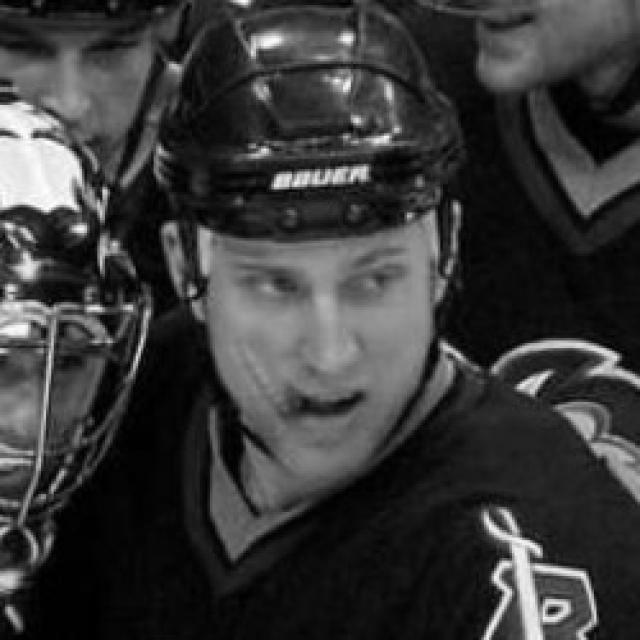real: (204, 221, 434, 485), (245, 262, 396, 312)
